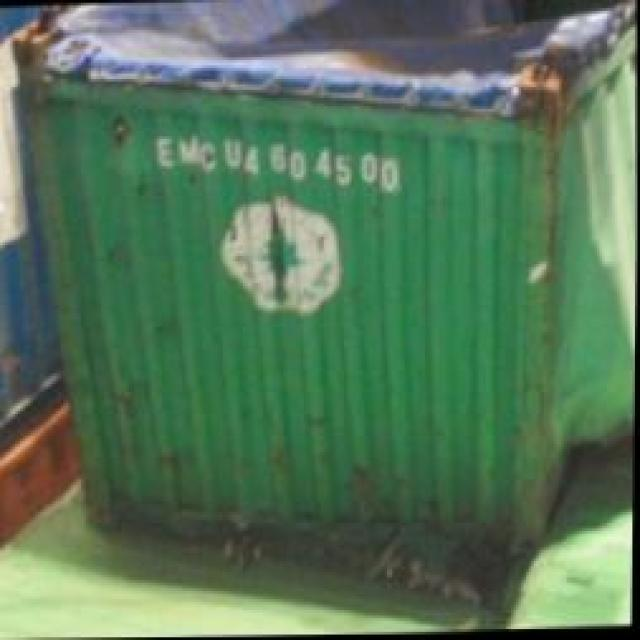hole: (93, 487, 544, 637), (113, 117, 133, 149)
